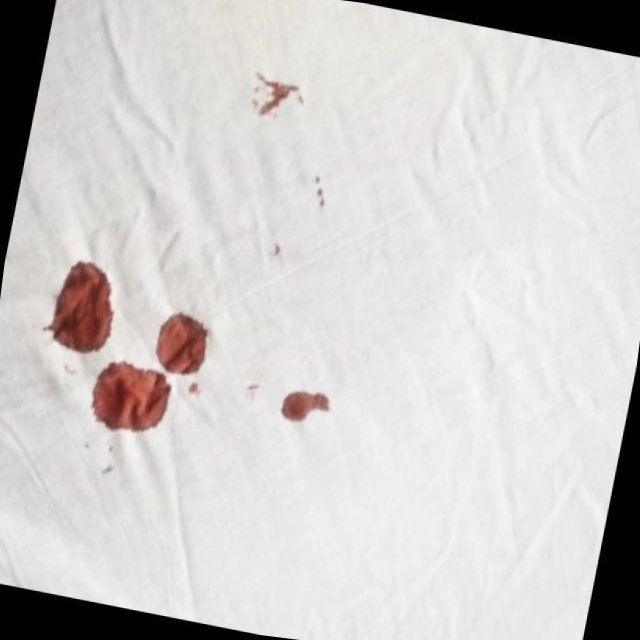blood: (41, 257, 120, 357), (89, 366, 170, 434), (153, 313, 210, 377), (279, 388, 333, 427)
